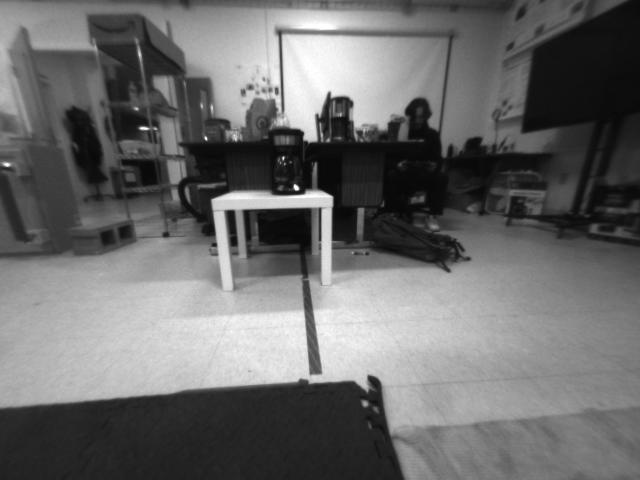coffee_pot: (265, 125, 306, 197)
